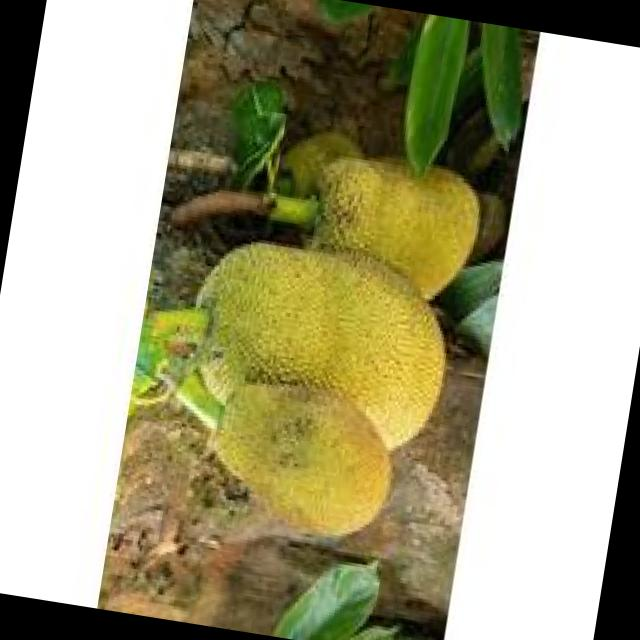Fruit: (158, 208, 470, 566)
